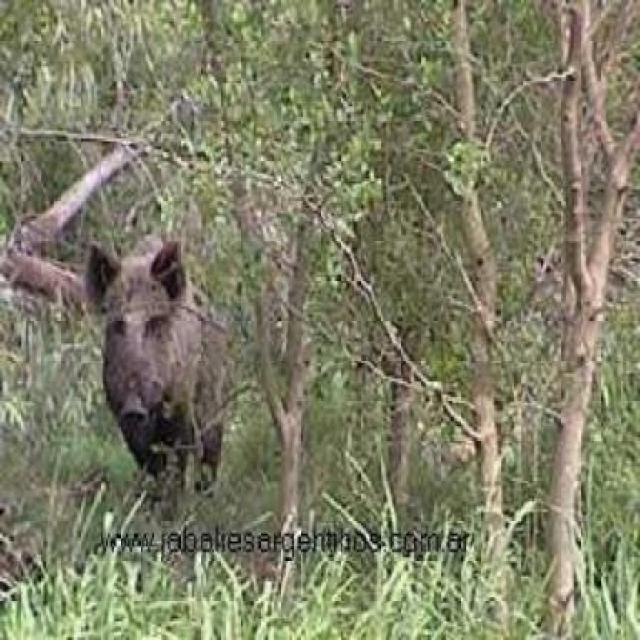pig: (62, 223, 276, 559)
